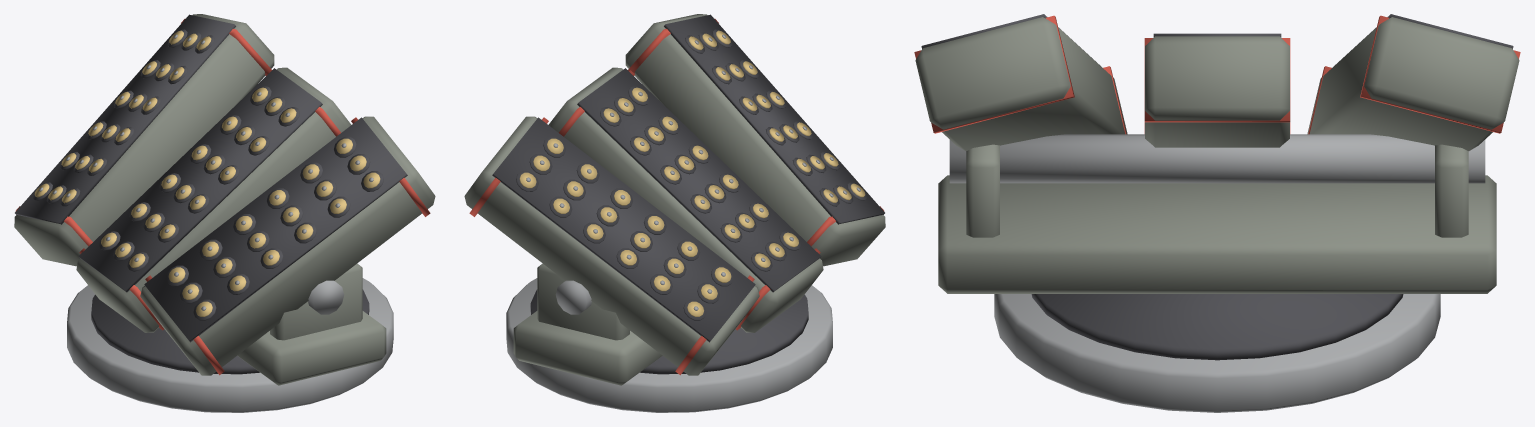
The model's file is flares_evo.glb.
The picture shows the model from 3 angles, left to right: view 1: azimuth 30°, elevation 25°; view 2: azimuth 150°, elevation 25°; view 3: azimuth 270°, elevation 25°; orthographic projection. The views are drawn at different scales.
Parts seen in each view (by area): view 1: flares_evo; view 2: flares_evo; view 3: flares_evo.
Boxes of the visible parts, x1=… form: flares_evo: x1=14, y1=14, x2=435, y2=412; flares_evo: x1=464, y1=14, x2=885, y2=412; flares_evo: x1=914, y1=14, x2=1520, y2=412.
Size of the model in its own units: 0.4 by 0.3475 by 0.5433.
